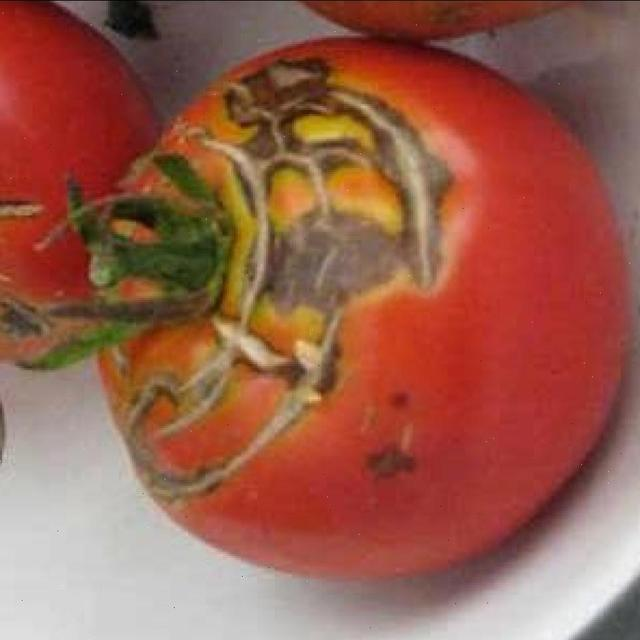Cracking Fruit: (49, 22, 303, 311)
